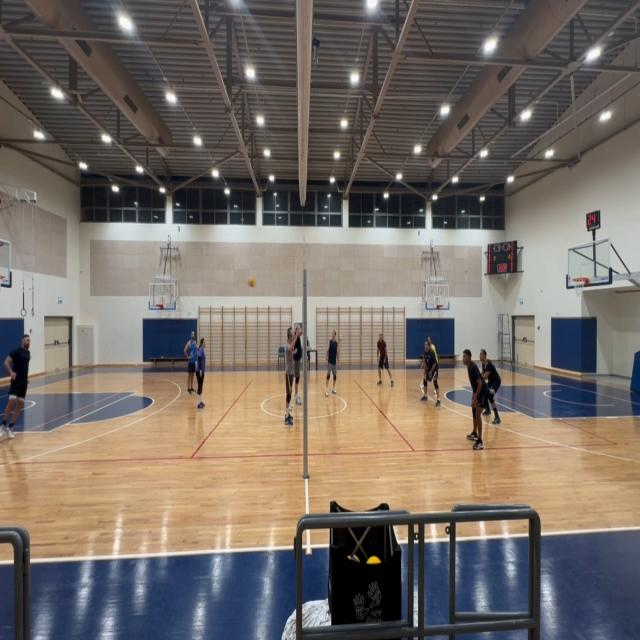volleyball: (248, 277, 256, 288)
